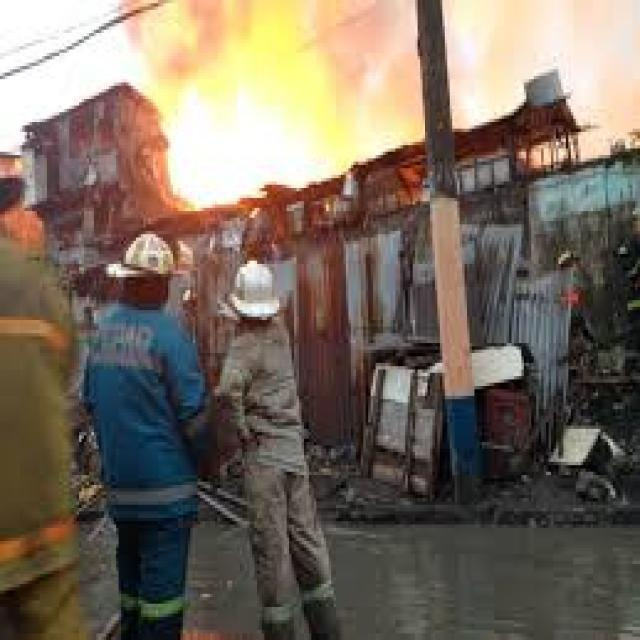Fire: (155, 70, 389, 206)
Smoke: (131, 1, 394, 74)
